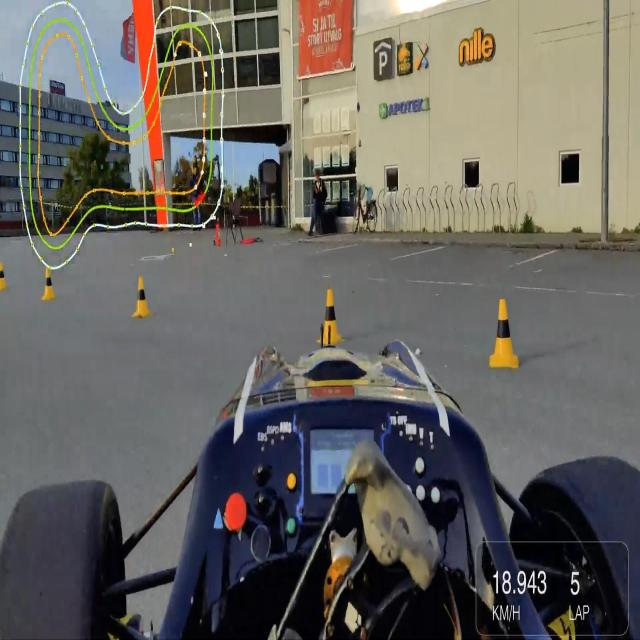yellow_cone: (495, 304, 517, 368), (321, 290, 345, 343), (134, 273, 153, 323), (38, 258, 56, 298)
